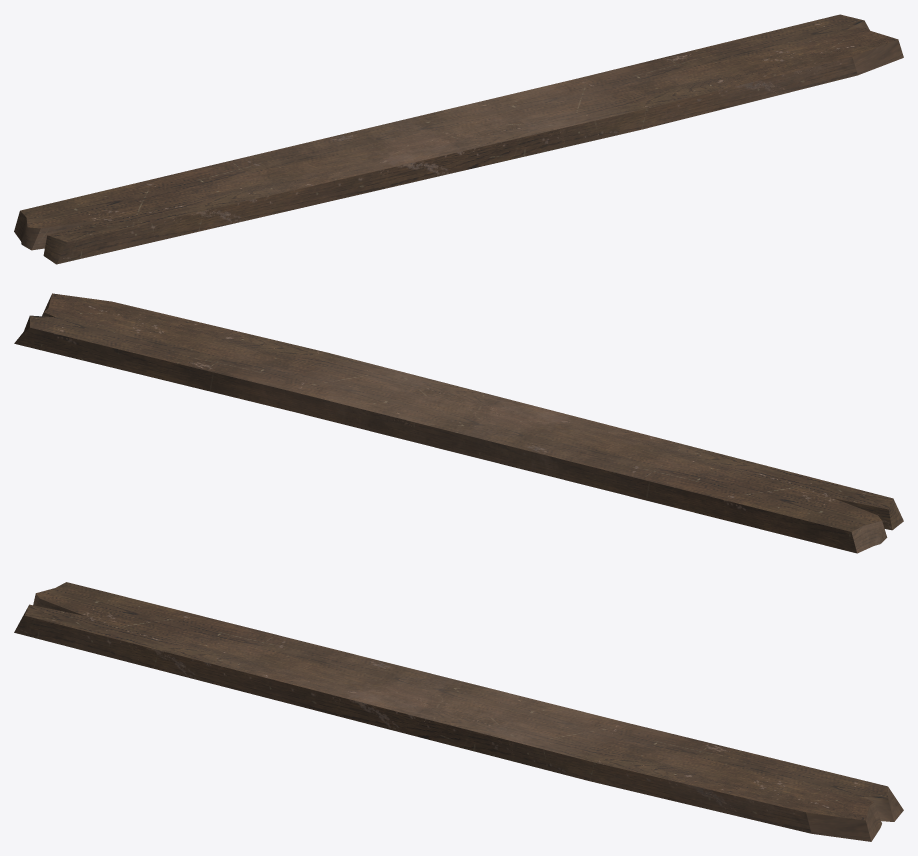
The model's file is SM_Plank_01.fbx.
The picture shows the model from 3 angles, top to bottom: view 1: azimuth 30°, elevation 25°; view 2: azimuth 150°, elevation 25°; view 3: azimuth 330°, elevation 25°; orthographic projection.
Visible parts, largest first — view 1: SM_Plank_01_LOD0; view 2: SM_Plank_01_LOD0; view 3: SM_Plank_01_LOD0.
Boxes of the visible parts, left/top/right/bottom form: SM_Plank_01_LOD0: left=14, top=14, right=903, bottom=264; SM_Plank_01_LOD0: left=14, top=293, right=903, bottom=553; SM_Plank_01_LOD0: left=14, top=582, right=903, bottom=841.
Size of what is drawn, in the model's own units: 354 by 7.82 by 37.72.
